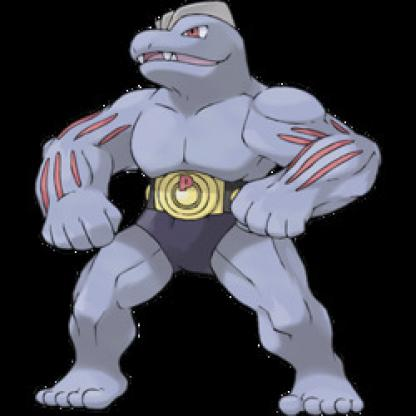Machoke: (37, 1, 394, 416)
